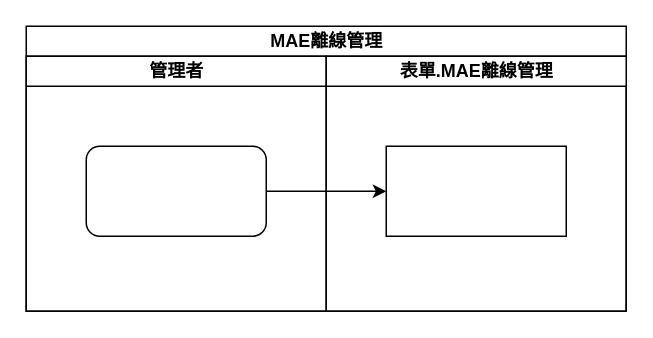
The diagram is 653 pixels wide and 338 high, and some of its shapes have lost their labels. Each missing label, with the centre of its shape:
"恢復離線使用者 可以上傳資料" belongs at point (475, 190).
"駐留記錄 點擊按鈕.取消強制斷線" belongs at point (175, 190).
